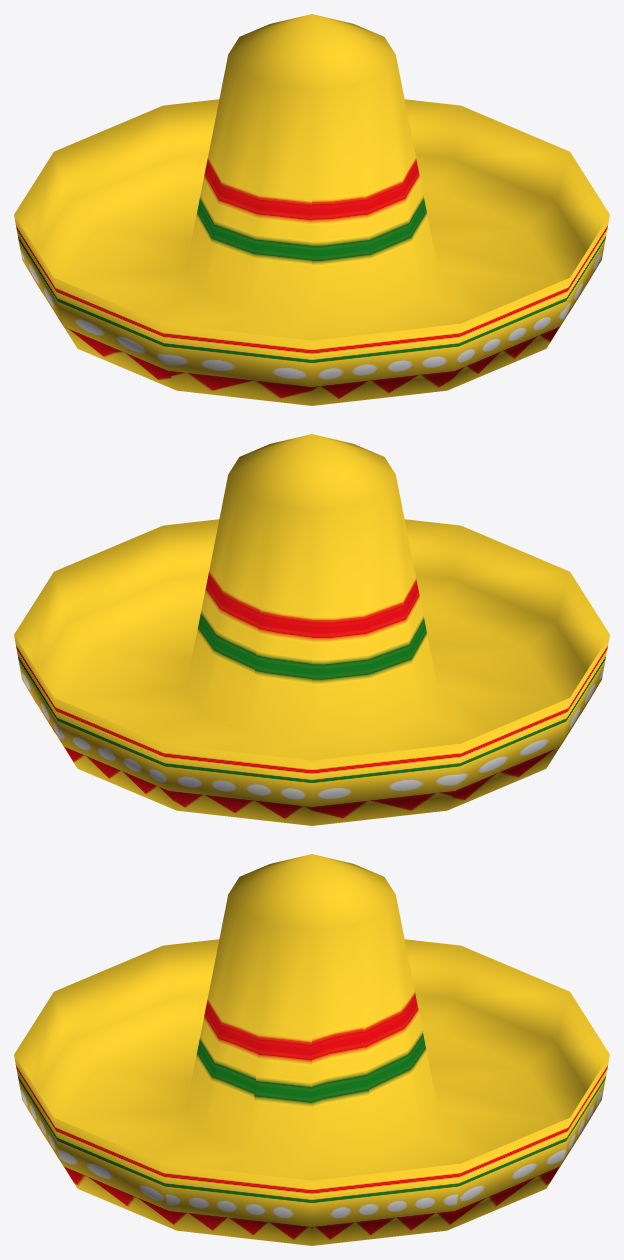
File: amogus-hat-mexican.fbx
The picture shows the model from 3 angles, top to bottom: view 1: azimuth 30°, elevation 25°; view 2: azimuth 150°, elevation 25°; view 3: azimuth 270°, elevation 25°; orthographic projection.
Parts seen in each view (by area): view 1: MexicanHat; view 2: MexicanHat; view 3: MexicanHat.
Boxes of the visible parts, x1,y1,x2,y2 form: MexicanHat: [14, 14, 609, 405]; MexicanHat: [14, 434, 609, 825]; MexicanHat: [14, 854, 609, 1245].
Size of the model in its own units: 192 by 192 by 98.59.
